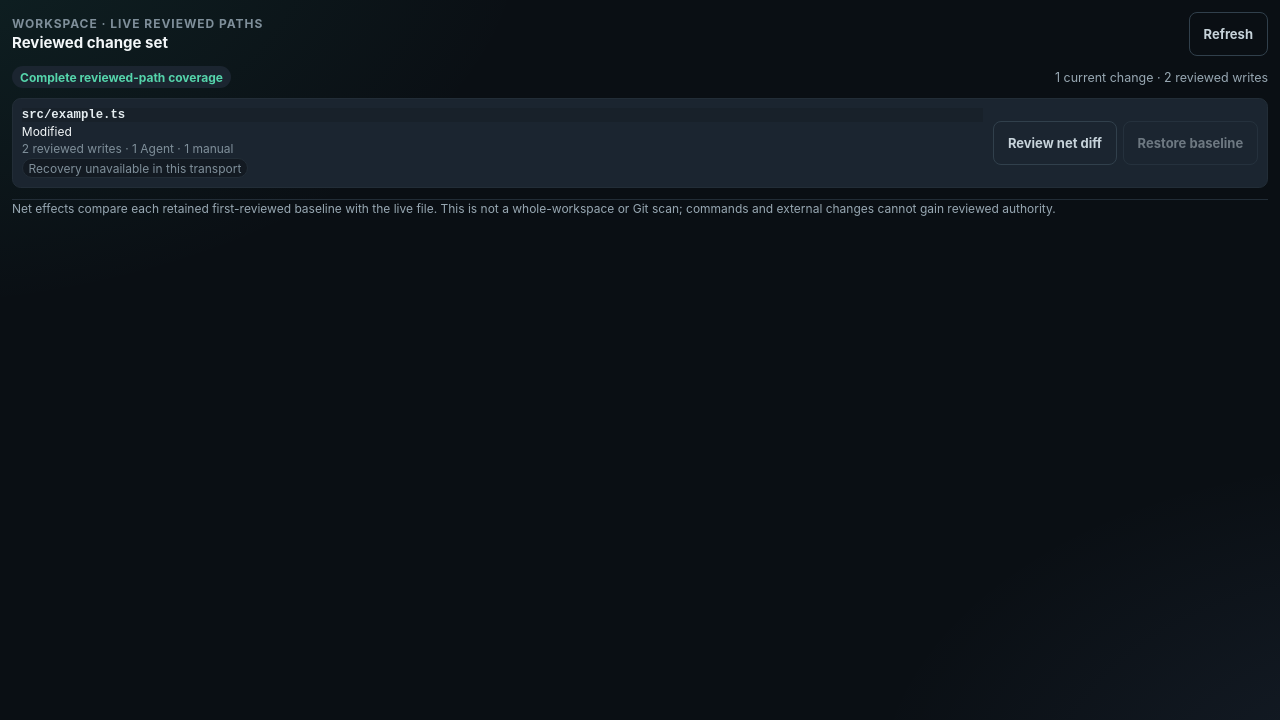
Test case: AgentChangeSetPanel › clears an open diff when the replacement transport cannot load change sets
Later steps or results of the test are not shown.
Expected: the text "Modified" is shown, top-left (22, 124), bottom-right (72, 139)
Step 1. Click the button "Review net diff" → (1055, 143), box top-left (993, 121), bottom-right (1117, 165)
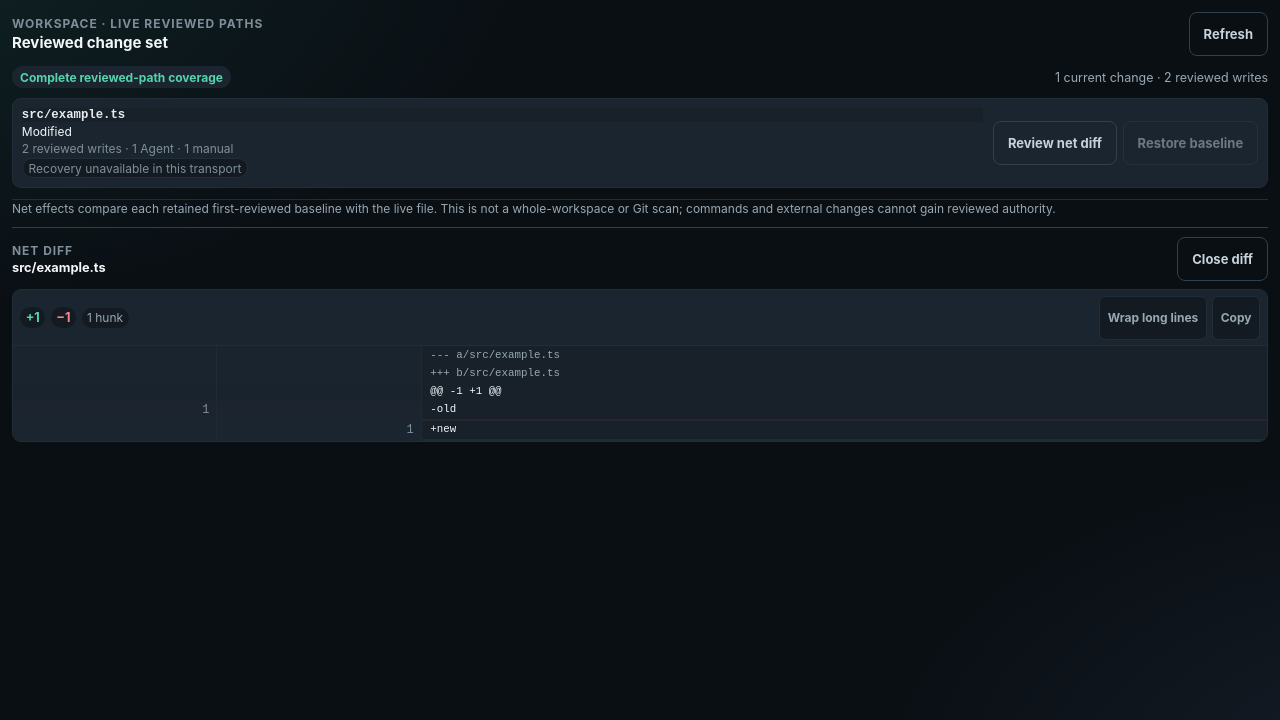
Now the element named "Net diff for src/example.ts" is shown, box top-left (12, 227), bottom-right (1268, 442)
